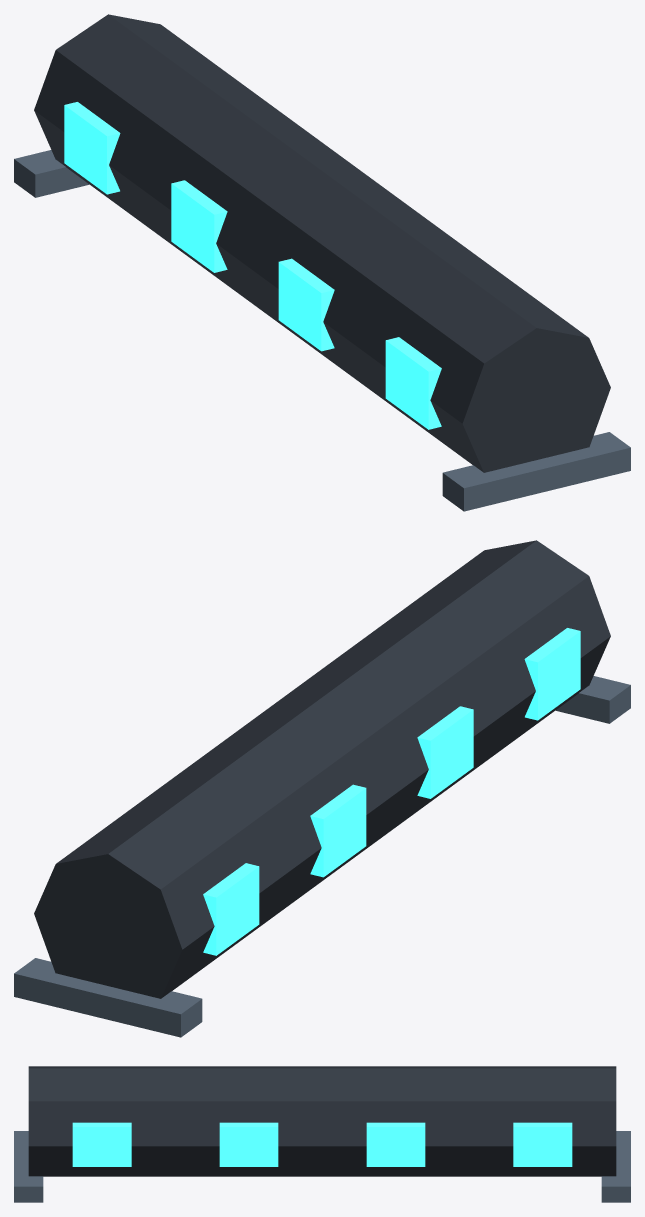
Rendered from interior_power_conduit.glb.
3 renders of one model, top to bottom at view 1: azimuth 30°, elevation 25°; view 2: azimuth 150°, elevation 25°; view 3: azimuth 270°, elevation 25°, orthographic. The views are drawn at different scales.
Parts seen in each view (by area): view 1: interior_power_conduit_steelDark, interior_power_conduit_glow, interior_power_conduit_steel; view 2: interior_power_conduit_steelDark, interior_power_conduit_glow, interior_power_conduit_steel; view 3: interior_power_conduit_steelDark, interior_power_conduit_glow, interior_power_conduit_steel.
Part boxes in pixels (x1=…): interior_power_conduit_steelDark: x1=34, y1=14, x2=610, y2=472; interior_power_conduit_glow: x1=64, y1=102, x2=441, y2=429; interior_power_conduit_steel: x1=14, y1=150, x2=630, y2=511; interior_power_conduit_steelDark: x1=34, y1=540, x2=610, y2=998; interior_power_conduit_glow: x1=203, y1=628, x2=580, y2=955; interior_power_conduit_steel: x1=14, y1=676, x2=630, y2=1037; interior_power_conduit_steelDark: x1=28, y1=1066, x2=616, y2=1176; interior_power_conduit_glow: x1=72, y1=1122, x2=572, y2=1166; interior_power_conduit_steel: x1=14, y1=1131, x2=630, y2=1202.
Size of the model in its own units: 0.9 by 0.8 by 4.2.
